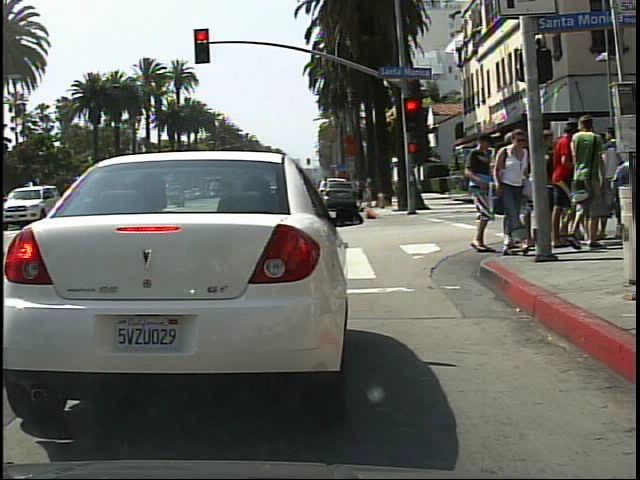person: (484, 125, 539, 258)
